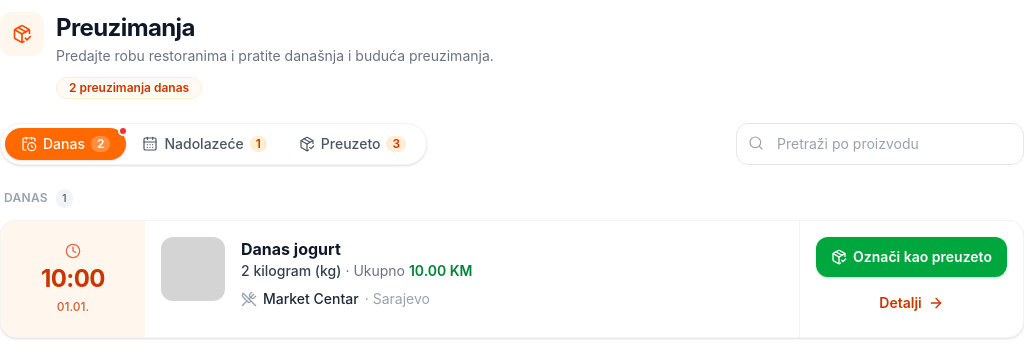
PickupsPage tab switching › shows Today when the Picked up response arrives after it
Check: the heading "Danas jogurt" is shown, box [241,239,341,259]
Click the tab "Preuzeto 3": (352, 144) [283,128,422,160]
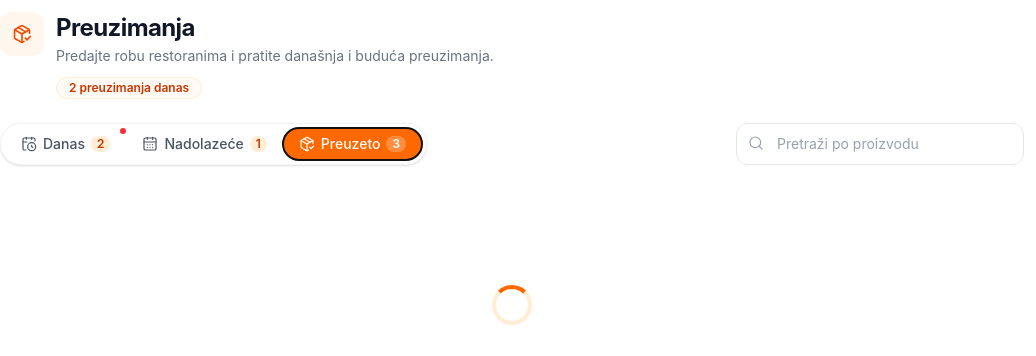
Click the tab "Danas 2": (66, 144) [5,128,126,160]
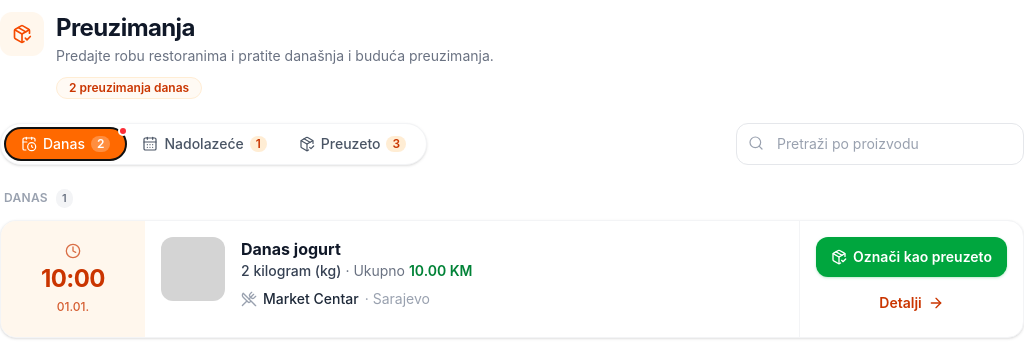
Check: the heading "Danas jogurt" is shown, box [241,239,341,259]
